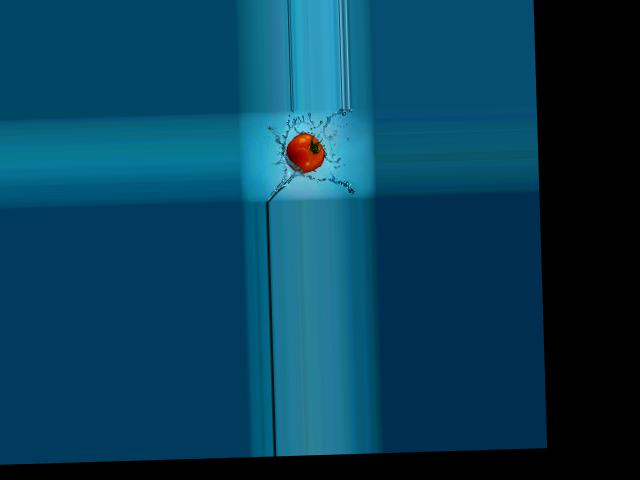tomato: (285, 132, 325, 173)
